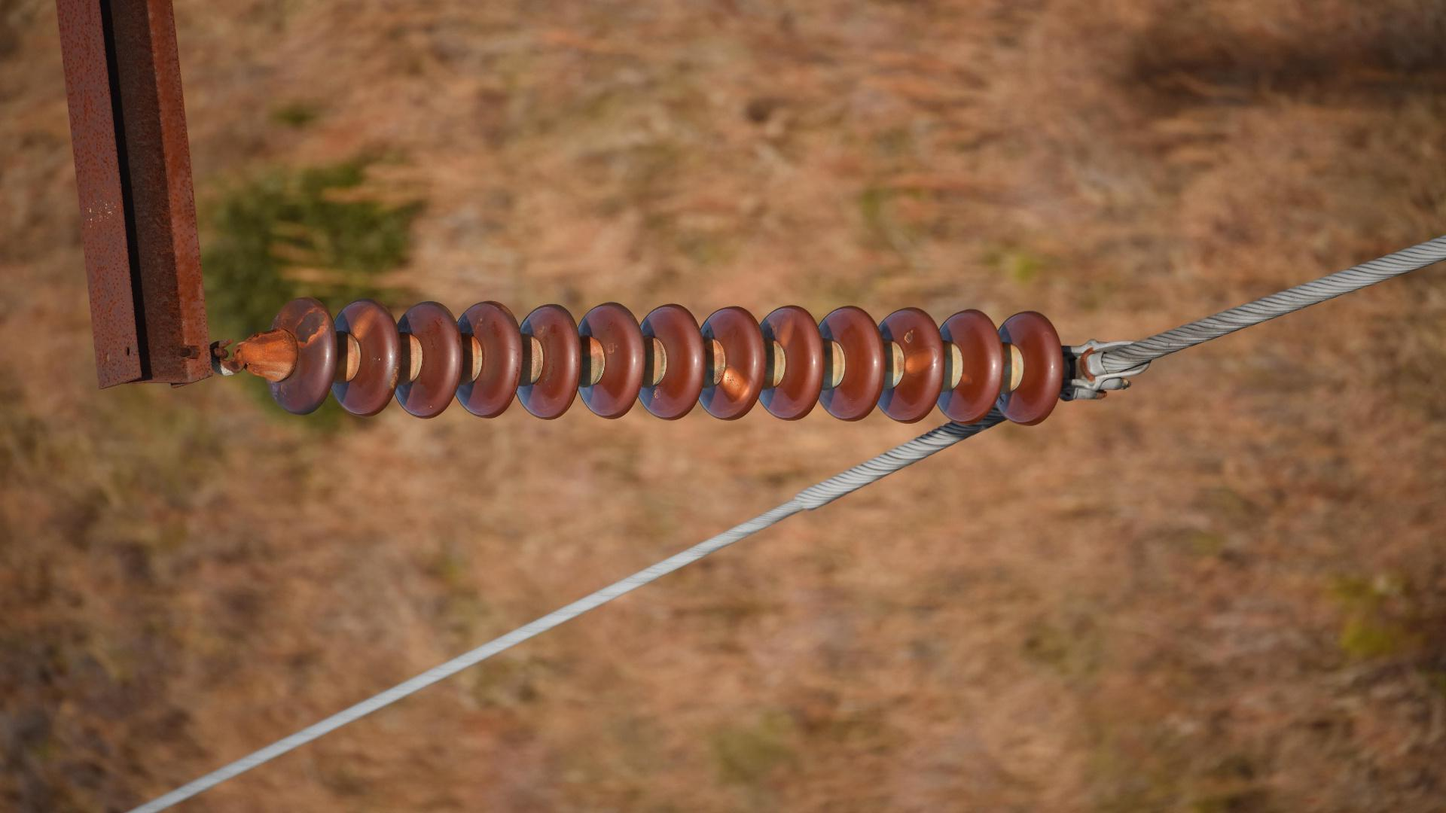insulator: (258, 297, 1069, 430)
insulator_flashover: (293, 304, 331, 346), (719, 364, 754, 402), (904, 346, 938, 376), (349, 305, 378, 340), (773, 310, 795, 349)
